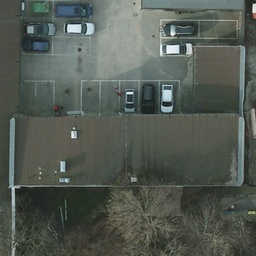car: (159, 42, 193, 58), (163, 23, 199, 38), (140, 80, 156, 113), (23, 37, 51, 54), (63, 22, 96, 36), (24, 23, 57, 37), (158, 85, 173, 113), (124, 86, 136, 113)
van: (54, 2, 93, 19)
